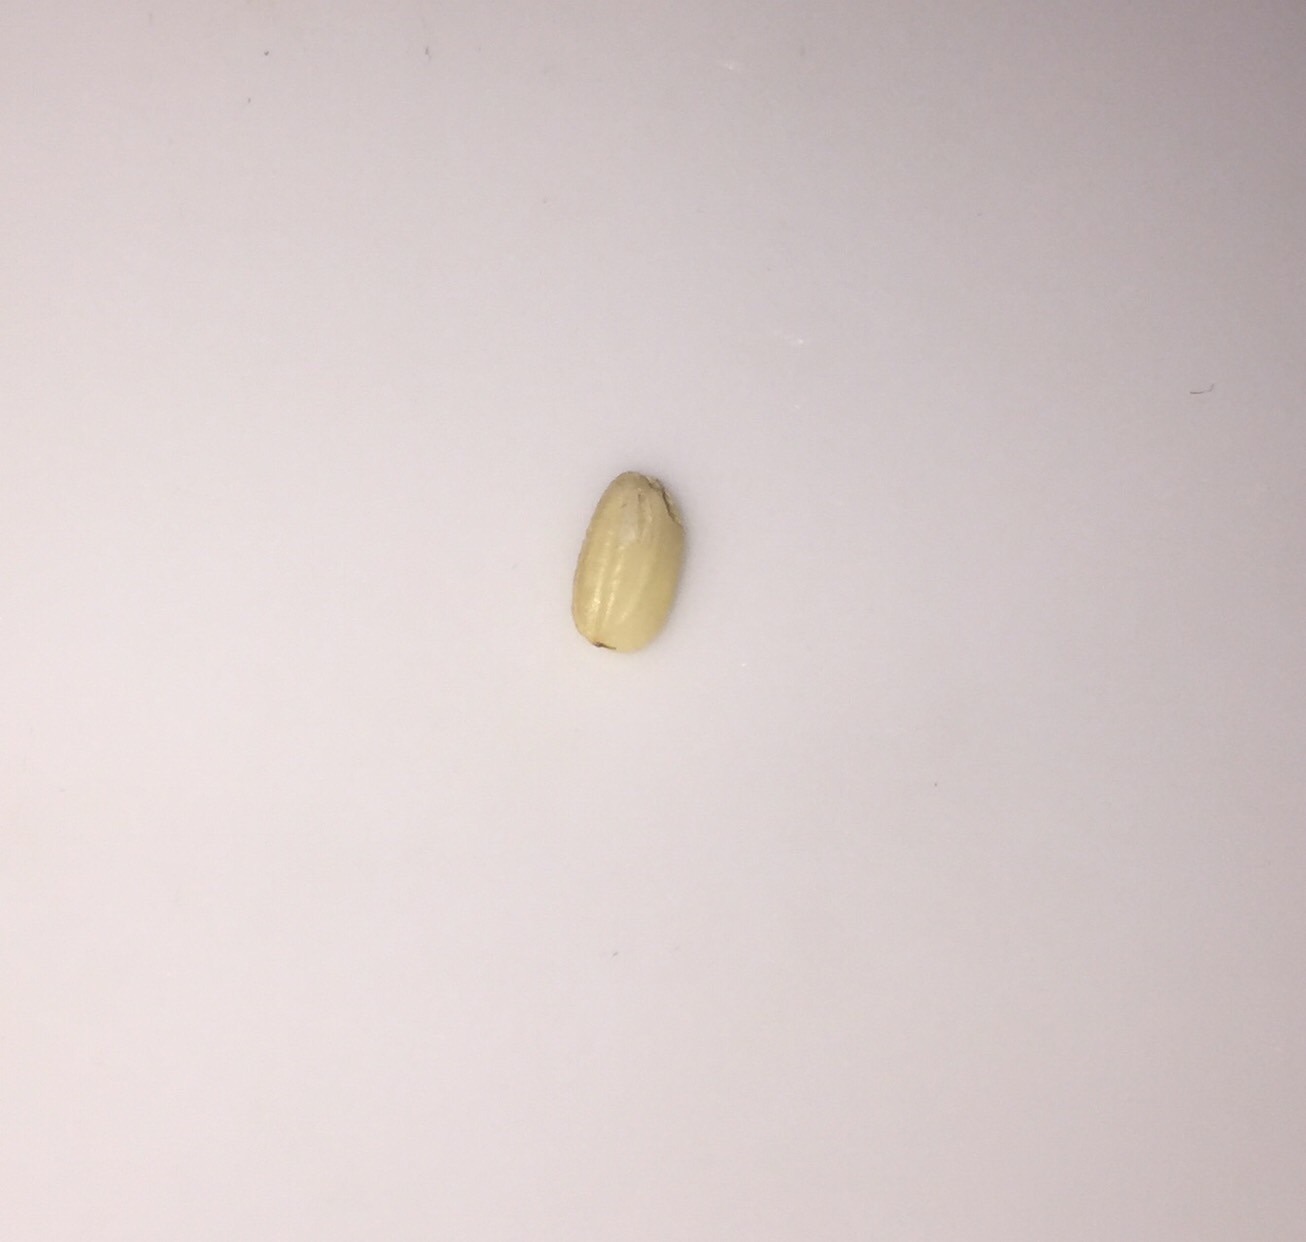Gao Lut Bac: (566, 436, 705, 679)
